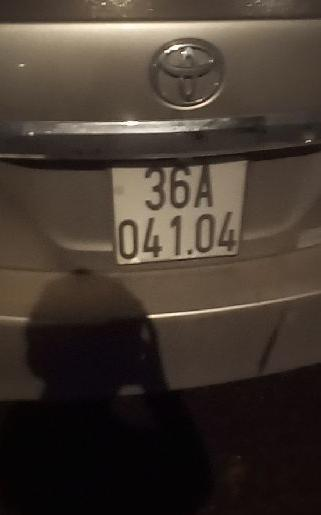Plate-iWeP: (110, 153, 250, 267)
